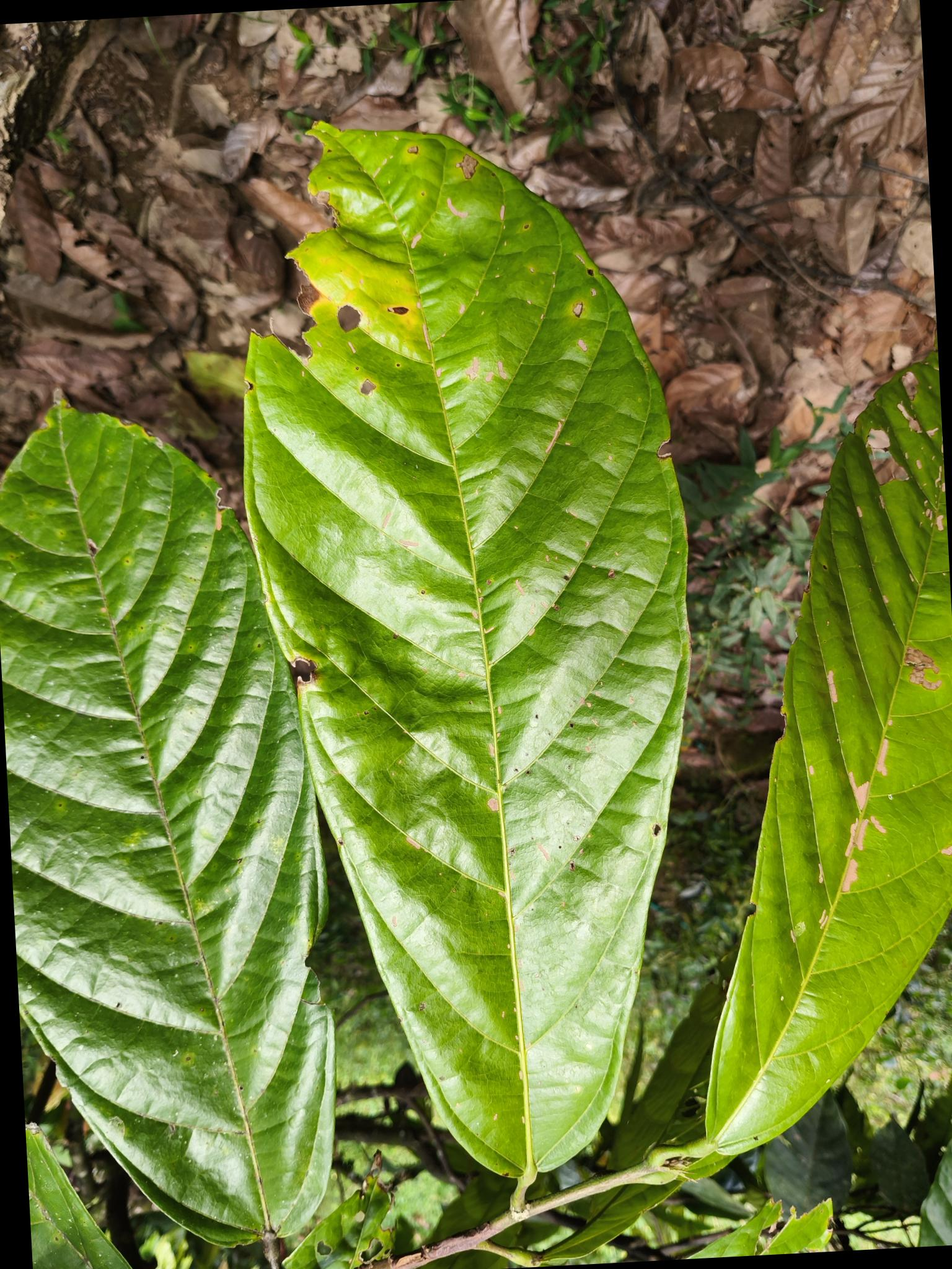Fosforo: (264, 132, 687, 1182)
